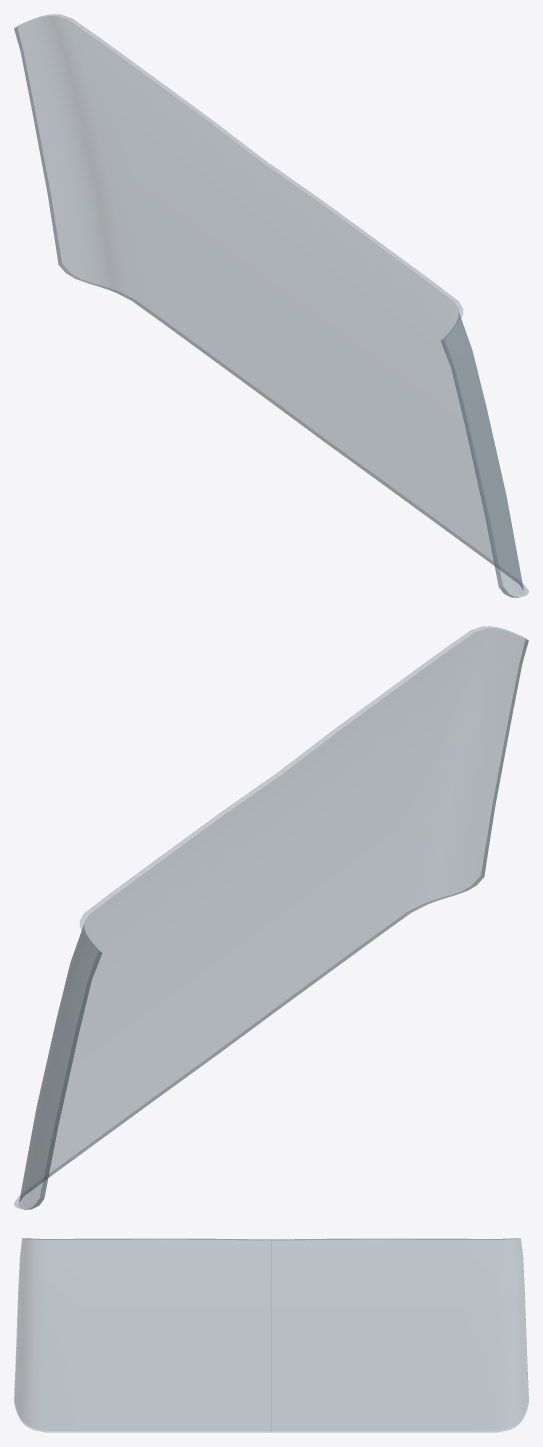
The picture shows the model from 3 angles, top to bottom: view 1: azimuth 30°, elevation 25°; view 2: azimuth 150°, elevation 25°; view 3: azimuth 270°, elevation 25°; orthographic projection. The views are drawn at different scales.
Parts seen in each view (by area): view 1: SM_EuropeanHGV_Glass_Ext2; view 2: SM_EuropeanHGV_Glass_Ext2; view 3: SM_EuropeanHGV_Glass_Ext2.
Part boxes in pixels (bbox=[...]): SM_EuropeanHGV_Glass_Ext2: bbox=[14, 14, 528, 597]; SM_EuropeanHGV_Glass_Ext2: bbox=[14, 626, 528, 1209]; SM_EuropeanHGV_Glass_Ext2: bbox=[14, 1238, 528, 1432].
Size of the model in its own units: 0.3579 by 0.9908 by 2.65.
